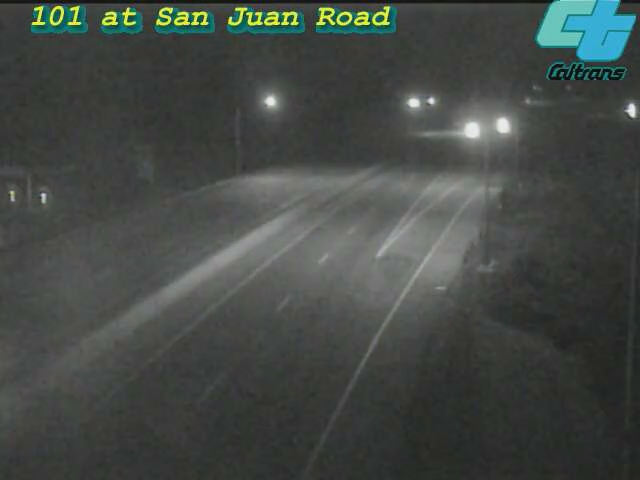vehicle: (446, 105, 496, 155), (476, 101, 526, 151), (606, 86, 640, 136)
